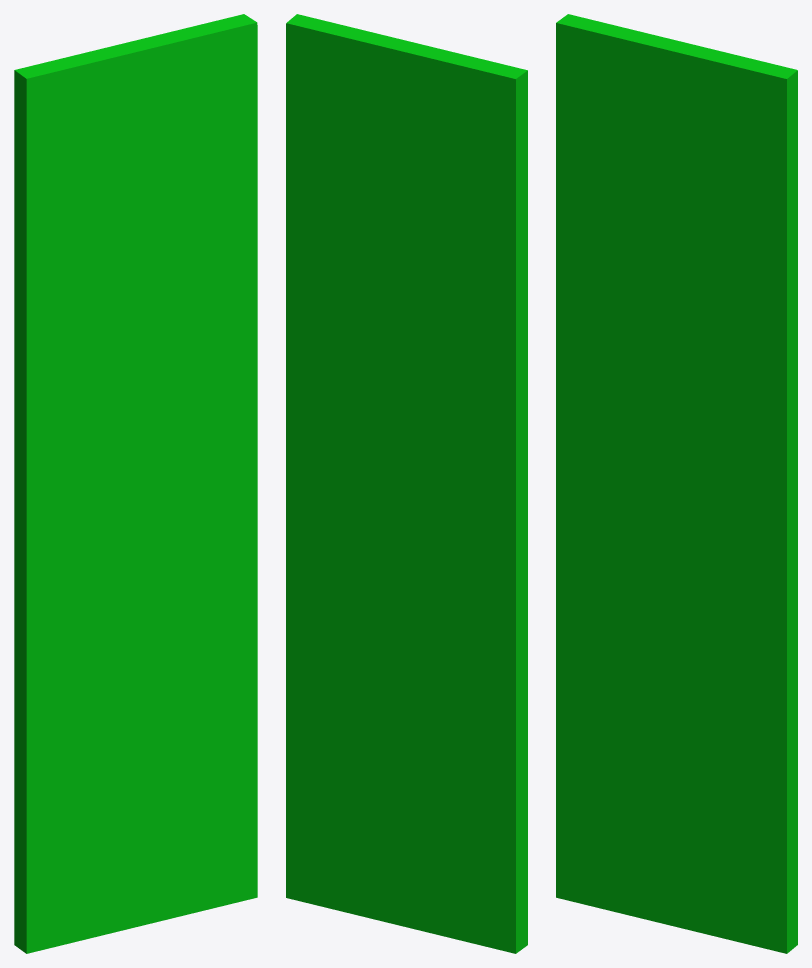
File: simple_example_hole_part_96.obj
3 views of the same model, side by side, from view 1: azimuth 30°, elevation 25°; view 2: azimuth 150°, elevation 25°; view 3: azimuth 330°, elevation 25° (orthographic).
Size of the model in its own units: 16.58 by 60.04 by 1.5.
